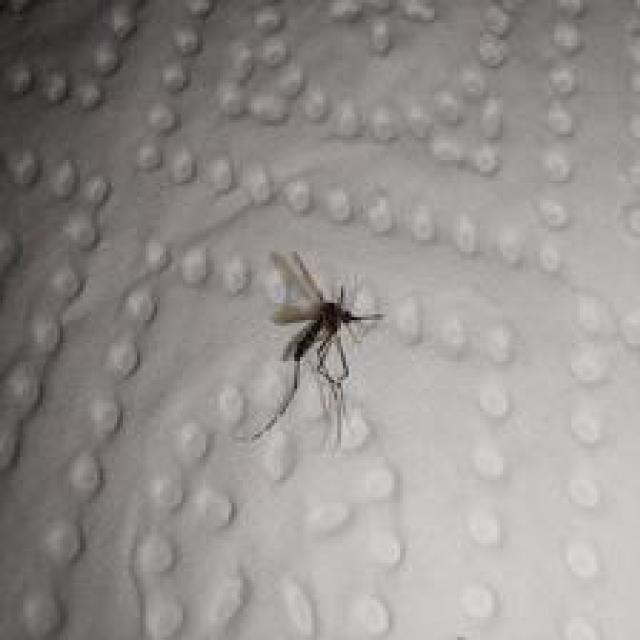Aedes albopictus: (250, 248, 384, 448)
